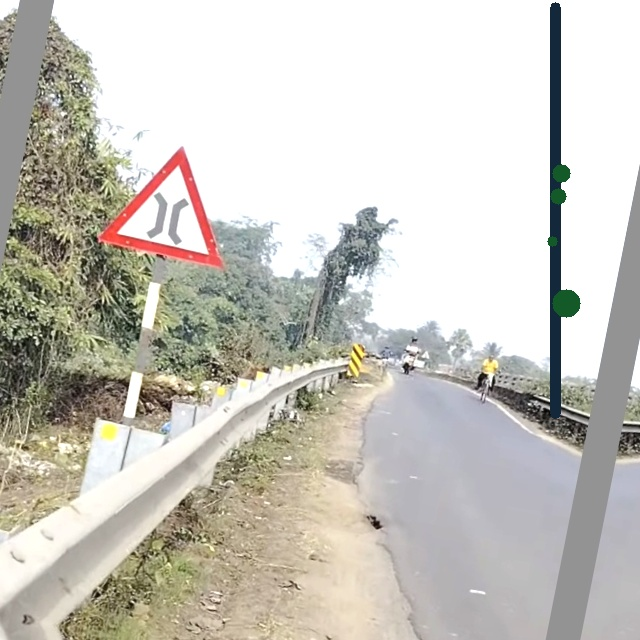Narrow_Bridge: (90, 131, 252, 276)
